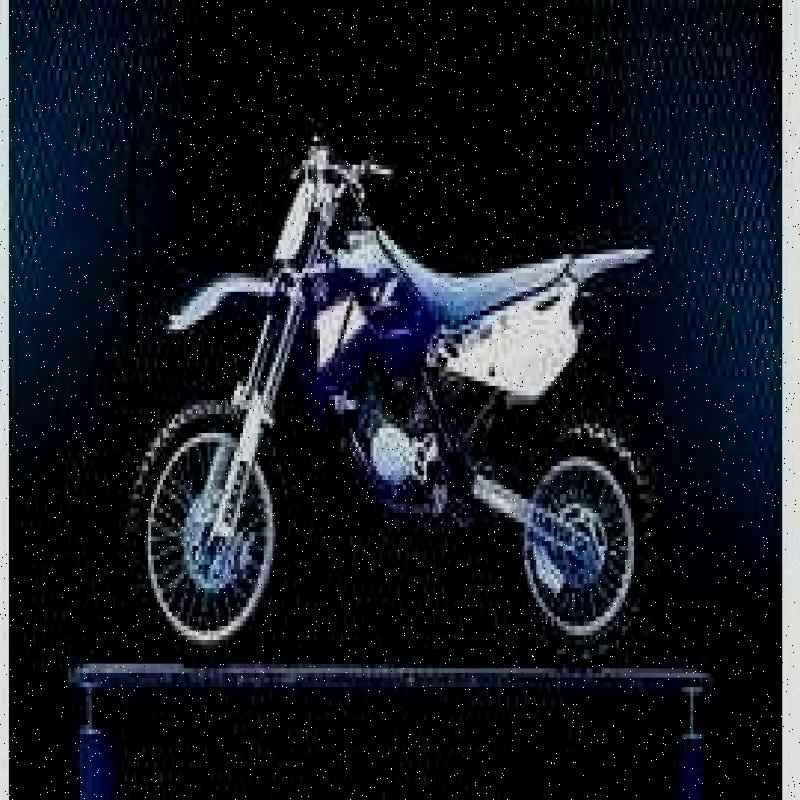bike: (124, 115, 684, 674)
